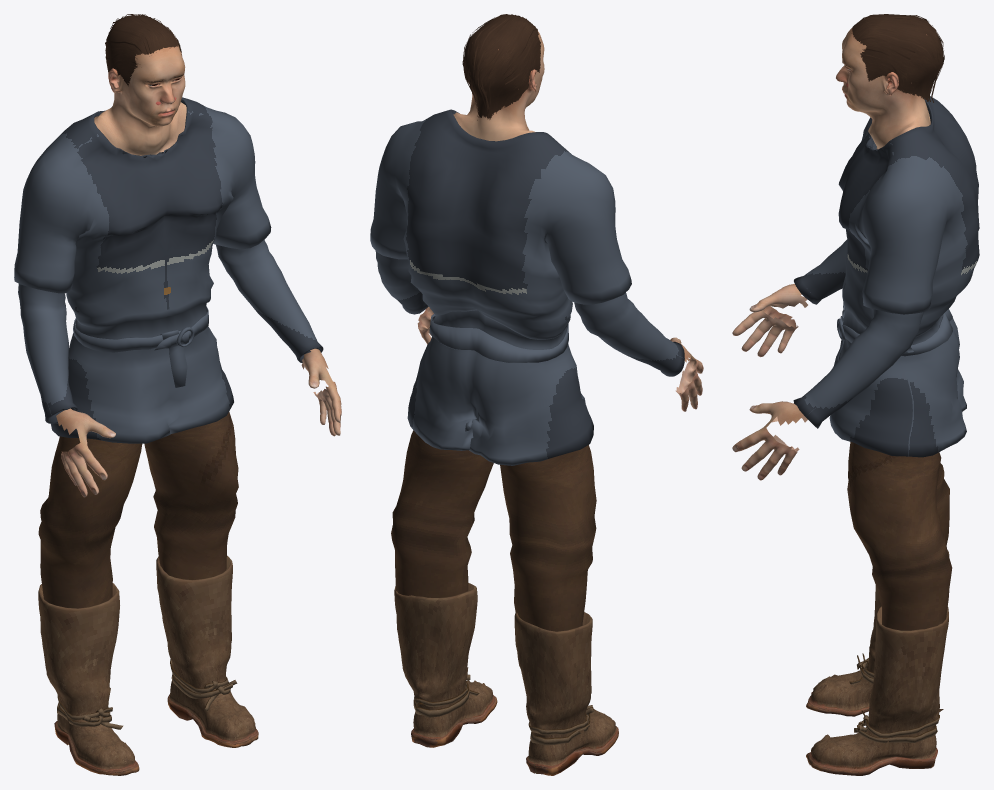
File: kest-field-tunic.glb
3 views of the same model, side by side, from view 1: azimuth 30°, elevation 25°; view 2: azimuth 150°, elevation 25°; view 3: azimuth 270°, elevation 25° (orthographic).
Parts seen in each view (by area): view 1: kest-field-tunic runtime mesh; view 2: kest-field-tunic runtime mesh; view 3: kest-field-tunic runtime mesh.
Part boxes in pixels (x1=…): kest-field-tunic runtime mesh: x1=14, y1=14, x2=341, y2=775; kest-field-tunic runtime mesh: x1=370, y1=14, x2=703, y2=775; kest-field-tunic runtime mesh: x1=732, y1=14, x2=979, y2=775.
Bounding box in the file's own units: 0.7516 × 1.85 × 0.5772.
Materials: 7 (7 with a texture image).
